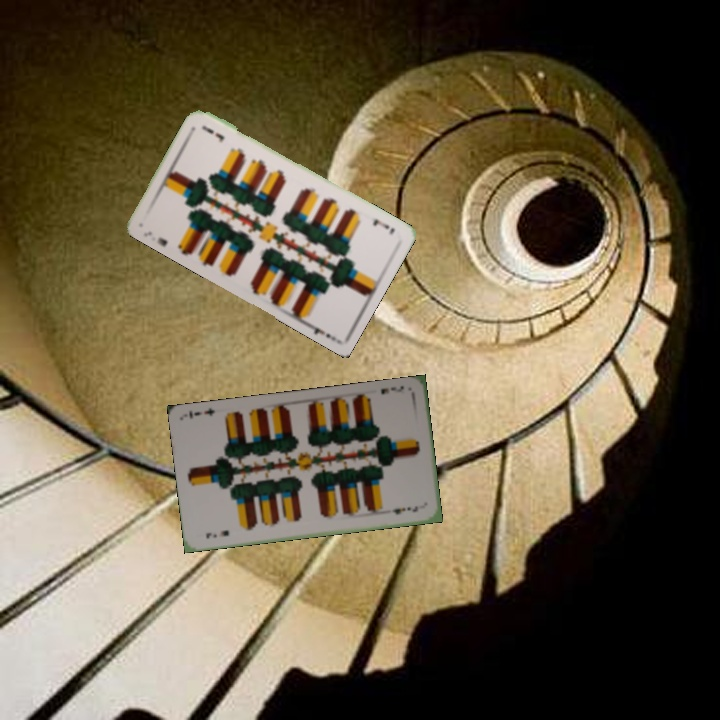E7: (139, 227, 170, 249), (369, 215, 397, 238), (202, 526, 232, 541), (377, 382, 407, 397)
